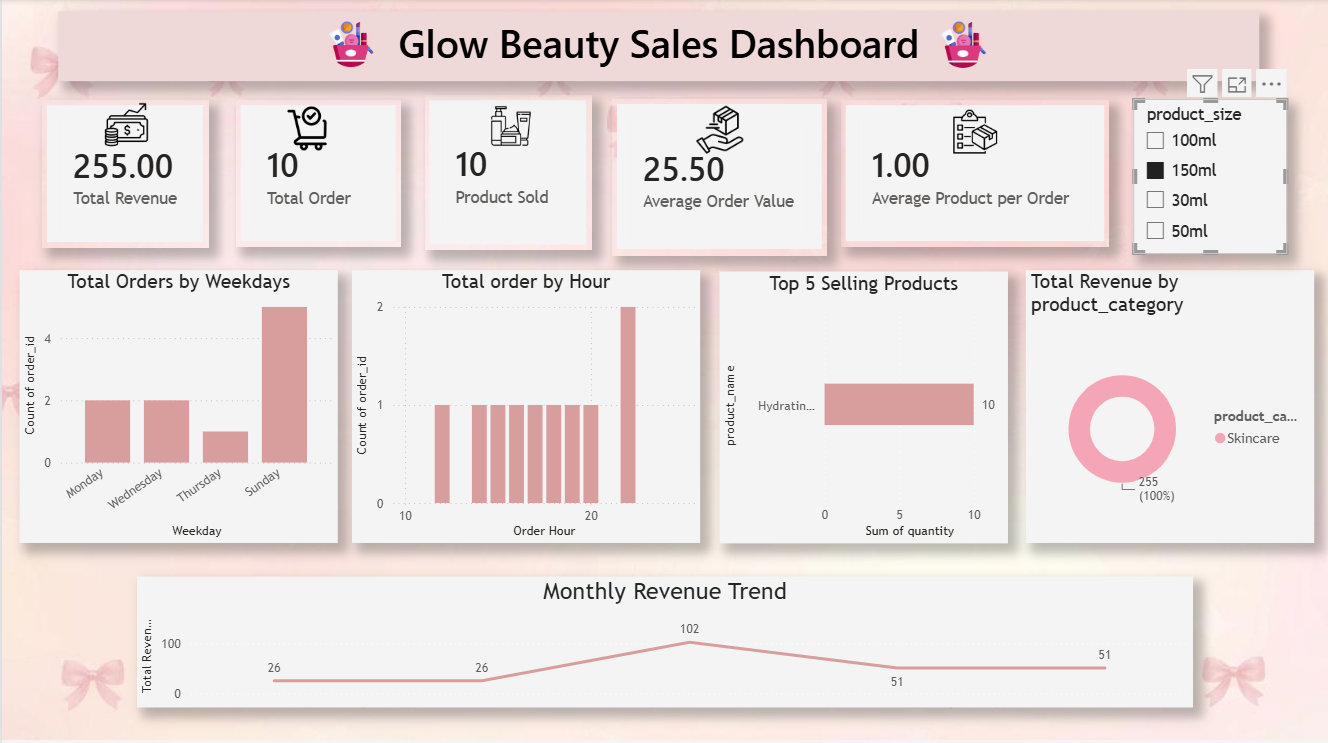

Layout of this report page (visuals, bound fields, positions):
{"tool":"powerbi","page":{"name":"Page 1","canvas":[1280,720],"ordinal":0},"visuals":[{"type":"cardVisual","fields":{"Data":["Sheet1.Total Revenue"]},"box":[38.4,97.4,160.5,142.7],"z":0},{"type":"cardVisual","fields":{"Data":["Sheet1.Total Order"]},"box":[225,97.4,159.2,141.3],"z":1000},{"type":"cardVisual","fields":{"Data":["Sheet1.Product Sold"]},"box":[407.5,93.3,161.9,149.6],"z":2000},{"type":"cardVisual","fields":{"Data":["Sheet1.Average Order Value"]},"box":[588.7,96.1,207.2,150.9],"z":3000},{"type":"cardVisual","fields":{"Data":["Sheet1.Average Product per Order"]},"box":[809.6,97.4,259.3,141.3],"z":4000},{"type":"textbox","box":[54.9,12.3,1159.5,67.2],"z":5000},{"type":"clusteredColumnChart","title":"Total Orders by Weekdays","fields":{"Category":["Sheet1.Weekday"],"Y":["Count(Sheet1.order_id)"]},"box":[16.5,262.1,307.4,263.5],"z":6000},{"type":"clusteredColumnChart","title":"Total order by Hour","fields":{"Category":["Sheet1.Order Hour"],"Y":["CountNonNull(Sheet1.order_id)"]},"box":[337.6,262.1,336.2,263.5],"z":7000},{"type":"clusteredBarChart","title":"Top 5 Selling Products","fields":{"Category":["Sheet1.product_name"],"Y":["Sum(Sheet1.quantity)"]},"box":[693,263.5,278.6,262.1],"z":8000},{"type":"slicer","fields":{"Values":["Sheet1.product_size"]},"box":[1092.3,96.1,148.2,149.6],"z":9000},{"type":"lineChart","title":"Monthly Revenue Trend","fields":{"Category":["Sheet1.order_date.Variation.Date Hierarchy.Month","Sheet1.order_date.Variation.Date Hierarchy.Day"],"Y":["Sheet1.Total Revenue"]},"box":[130.4,557.1,1019.6,126.2],"z":10000},{"type":"donutChart","fields":{"Category":["Sheet1.product_category"],"Y":["Sheet1.Total Revenue"]},"box":[988,262.1,278.6,263.5],"z":10001},{"type":"image","box":[264.8,22,142.7,43.9],"z":10002},{"type":"image","box":[98.8,97.4,42.5,46.7],"z":10004},{"type":"image","box":[447.3,101.5,87.8,42.5],"z":10005},{"type":"image","box":[918,79.6,42.5,97.4],"z":10006},{"type":"image","box":[661.4,101.5,63.1,49.4],"z":10008},{"type":"image","box":[856.6,21.7,142.4,44.6],"z":10009},{"type":"image","box":[238.8,104.3,111.1,42.5],"z":10010}]}

Visuals, with their boxes in screenshot pixels (x1, y1, x2, y2), scaled from the page's 1280x720 canvas onto the 1328x743 screenshot:
cardVisual - Sheet1.Total Revenue: 40 101 206 248
cardVisual - Sheet1.Total Order: 233 101 399 246
cardVisual - Sheet1.Product Sold: 423 96 591 251
cardVisual - Sheet1.Average Order Value: 611 99 826 255
cardVisual - Sheet1.Average Product per Order: 840 101 1109 246
textbox: 57 13 1260 82
"Total Orders by Weekdays" clusteredColumnChart: 17 270 336 542
"Total order by Hour" clusteredColumnChart: 350 270 699 542
"Top 5 Selling Products" clusteredBarChart: 719 272 1008 542
slicer - Sheet1.product_size: 1133 99 1287 254
"Monthly Revenue Trend" lineChart: 135 575 1193 705
donutChart - Sheet1.product_category x Sheet1.Total Revenue: 1025 270 1314 542
image: 275 23 423 68
image: 103 101 147 149
image: 464 105 555 149
image: 952 82 997 183
image: 686 105 752 156
image: 889 22 1036 68
image: 248 108 363 151
